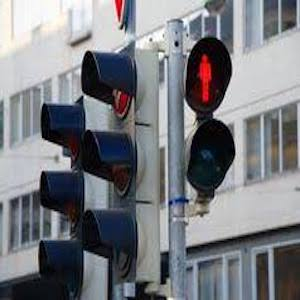red: (195, 51, 217, 101)
